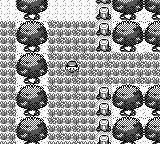captura: (48, 20, 159, 143), (0, 21, 16, 143)
main: (65, 61, 79, 73)
no-caminable: (16, 0, 47, 143), (113, 85, 159, 143), (113, 0, 159, 53), (96, 88, 112, 143), (96, 4, 111, 51)
